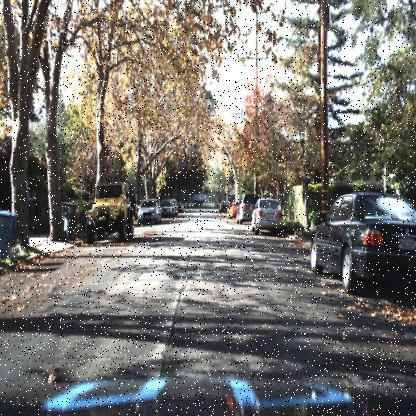car: (295, 178, 415, 293), (84, 180, 135, 243), (250, 194, 287, 236), (136, 196, 160, 230), (235, 192, 253, 228), (226, 194, 238, 224), (160, 200, 174, 219)
